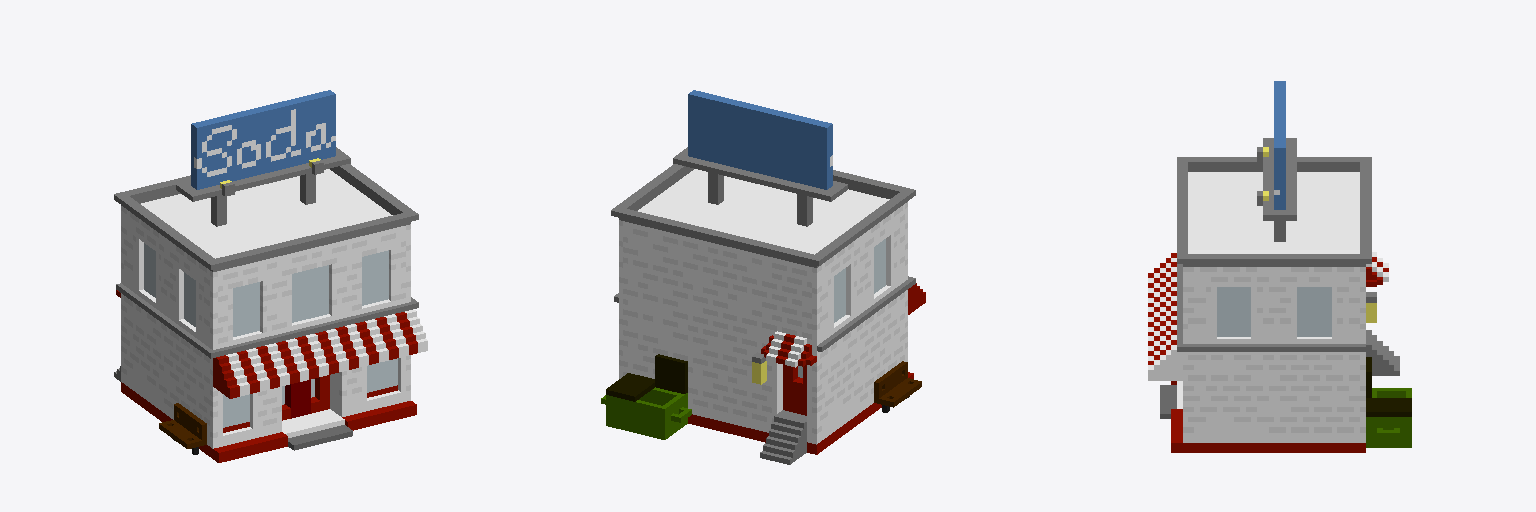
3 views of the same model, side by side, from view 1: azimuth 30°, elevation 25°; view 2: azimuth 150°, elevation 25°; view 3: azimuth 270°, elevation 25° (orthographic).
Parts seen in each view (by area): view 1: soda2; view 2: soda2; view 3: soda2.
Boxes of the visible parts, x1=… form: soda2: x1=114, y1=90, x2=427, y2=462; soda2: x1=601, y1=90, x2=925, y2=464; soda2: x1=1148, y1=81, x2=1411, y2=452.
Size of the model in its own units: 45 by 56 by 46.
1 materials, 1 textured.